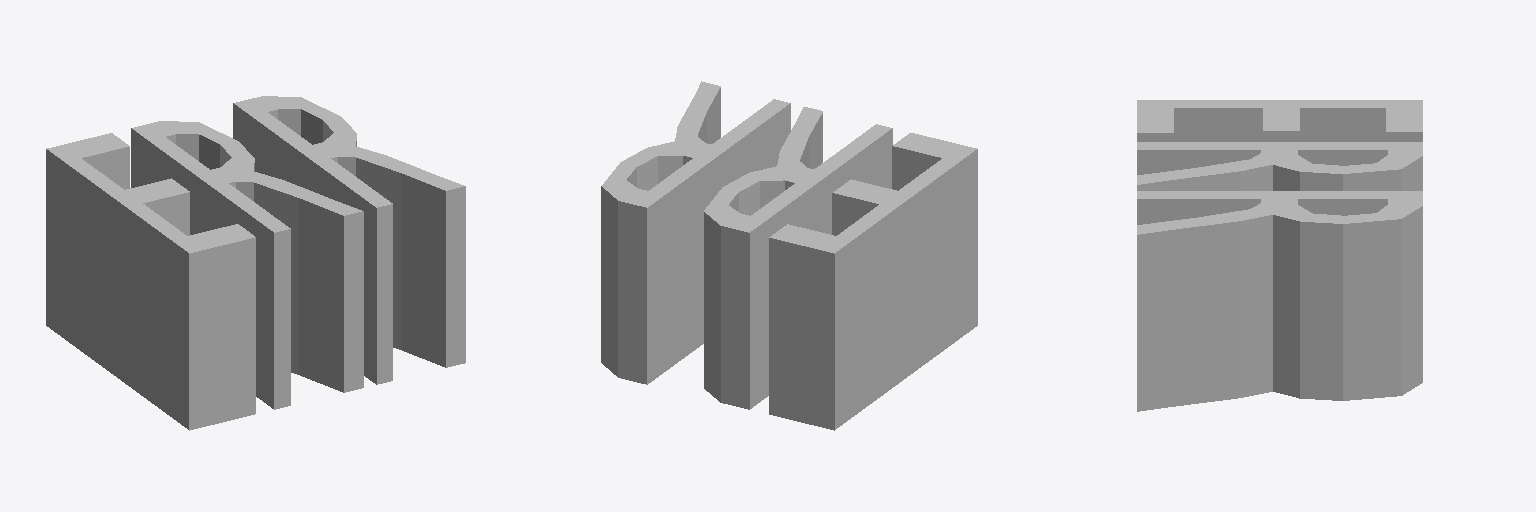
File: errorModel.obj
3 renders of one model, left to right at view 1: azimuth 30°, elevation 25°; view 2: azimuth 150°, elevation 25°; view 3: azimuth 270°, elevation 25°, orthographic.
Parts seen in each view (by area): view 1: Text_CUText; view 2: Text_CUText; view 3: Text_CUText.
Boxes of the visible parts, x1=… form: Text_CUText: x1=46, y1=96, x2=465, y2=430; Text_CUText: x1=601, y1=81, x2=977, y2=430; Text_CUText: x1=1137, y1=100, x2=1422, y2=411.
Size of the model in its own units: 1.63 by 1 by 1.47.